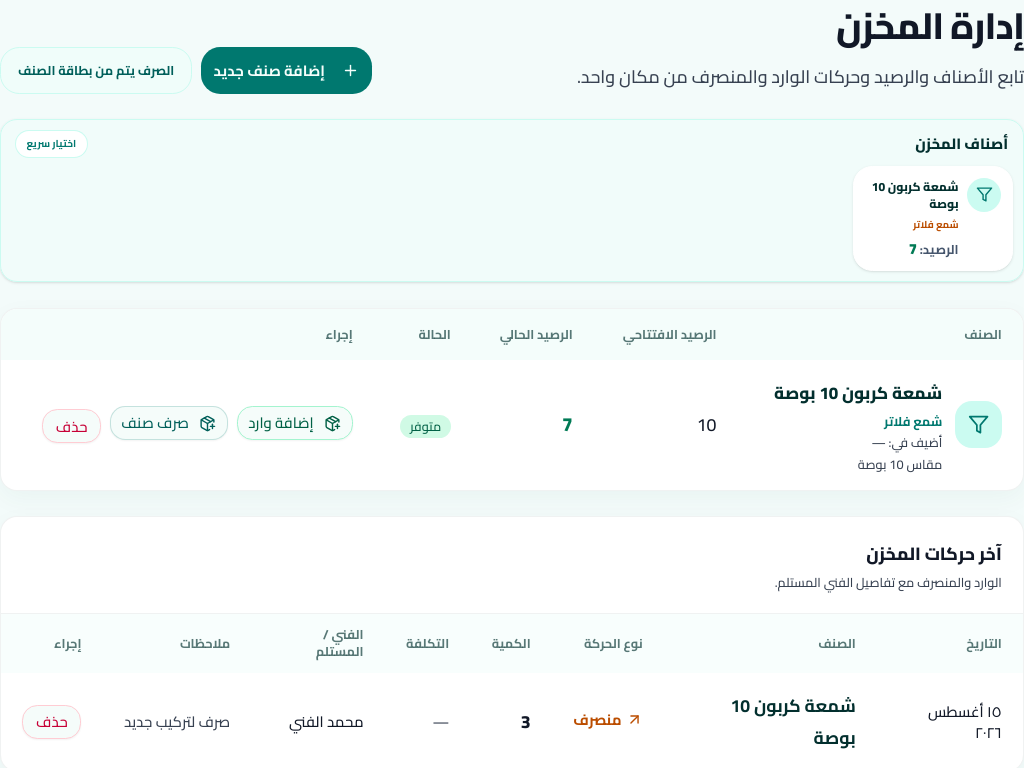
Test: تفاصيل المنصرف في المخزون › يغلق نافذة تفاصيل الصنف بزر الإغلاق العائم
Click the button "شمعة كربون 10 بوصة".
click(858, 394)  # box left=774, top=381, right=942, bottom=406
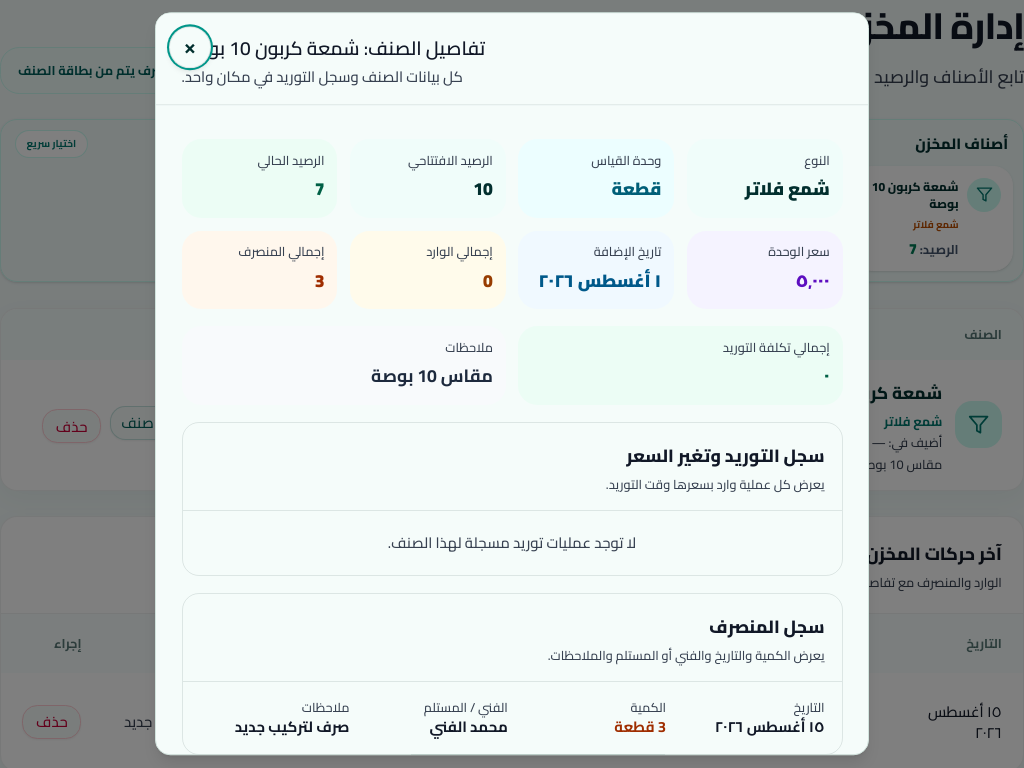
Result: the dialog is shown
Click the button named "إغلاق تفاصيل الصنف".
click(190, 47)  # box left=169, top=26, right=211, bottom=69
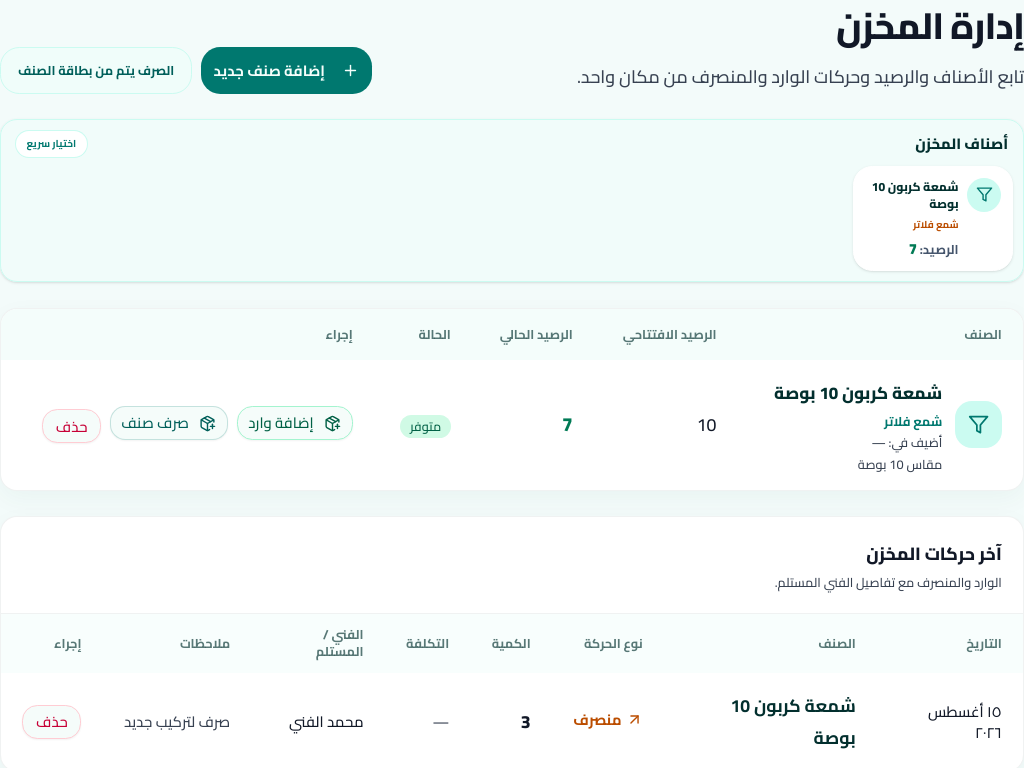
Result: the dialog is gone
